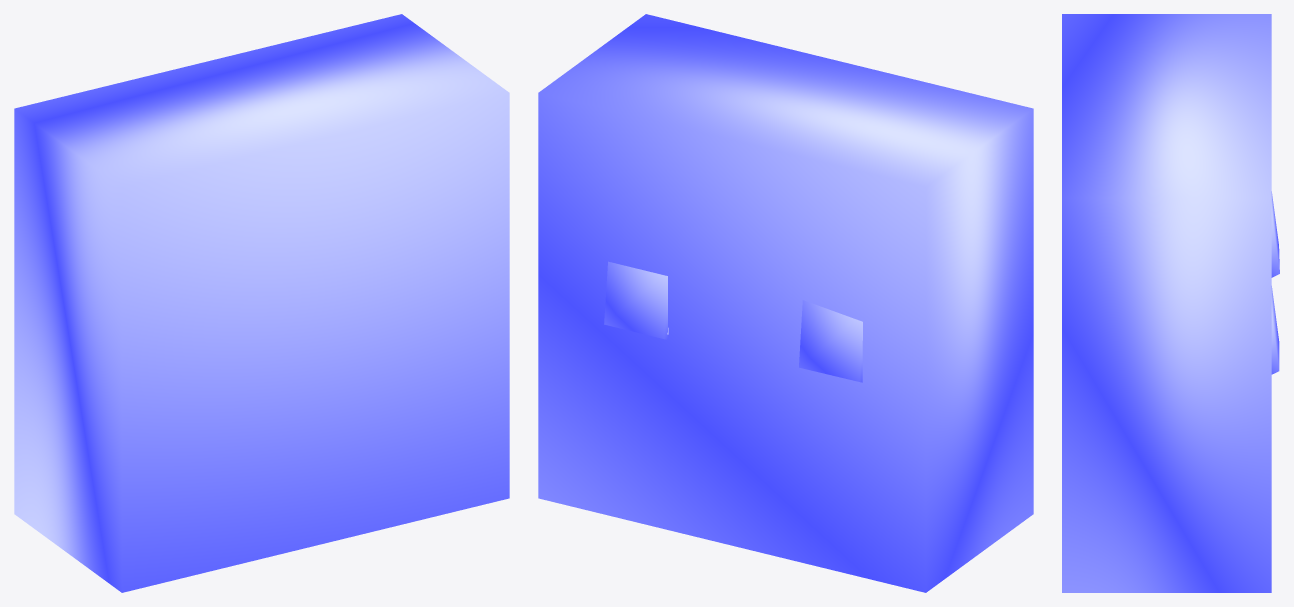
File: smileyrotate.glb
3 views of the same model, side by side, from view 1: azimuth 30°, elevation 25°; view 2: azimuth 150°, elevation 25°; view 3: azimuth 270°, elevation 25° (orthographic). The views are drawn at different scales.
Visible parts, largest first — view 1: Cube; view 2: Cube, Cube.003, Cube.004; view 3: Cube, Cube.004, Cube.003.
Part boxes in pixels (x1,y1,x2,y2): Cube: (14,14,509,592); Cube: (538,14,1033,592); Cube.003: (799,300,862,382); Cube.004: (604,261,667,339); Cube: (1062,14,1271,592); Cube.004: (1271,286,1279,374); Cube.003: (1271,191,1279,277).
Bounding box in the file's own units: 6.57 × 6.57 × 3.28.
